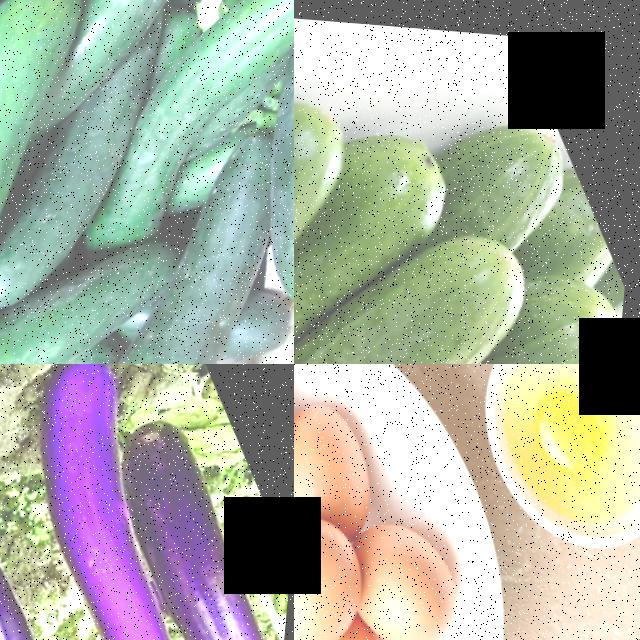cucumber: (294, 197, 579, 364), (298, 235, 630, 364), (186, 0, 294, 311), (294, 53, 398, 364), (0, 0, 143, 215), (45, 248, 292, 364), (136, 0, 294, 132), (0, 243, 162, 364), (53, 0, 270, 57)
egg_: (340, 490, 494, 640), (294, 379, 399, 523), (294, 497, 396, 640), (519, 364, 636, 483), (296, 615, 424, 640)
eggplant: (72, 393, 294, 640), (0, 416, 237, 640), (0, 437, 143, 640)
